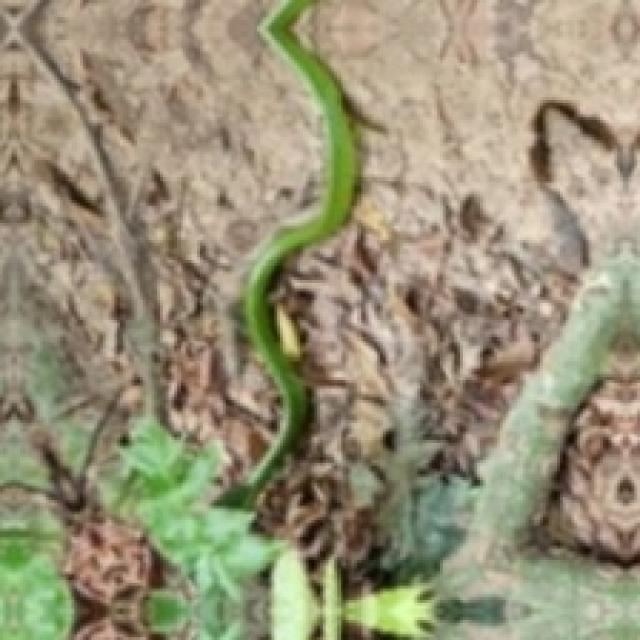red-tailed green ratsnake: (220, 0, 359, 508)
